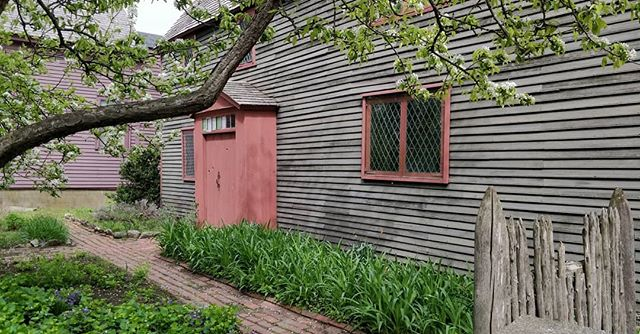building: (163, 1, 629, 311)
tree: (13, 1, 442, 205)
window: (359, 87, 447, 195)
